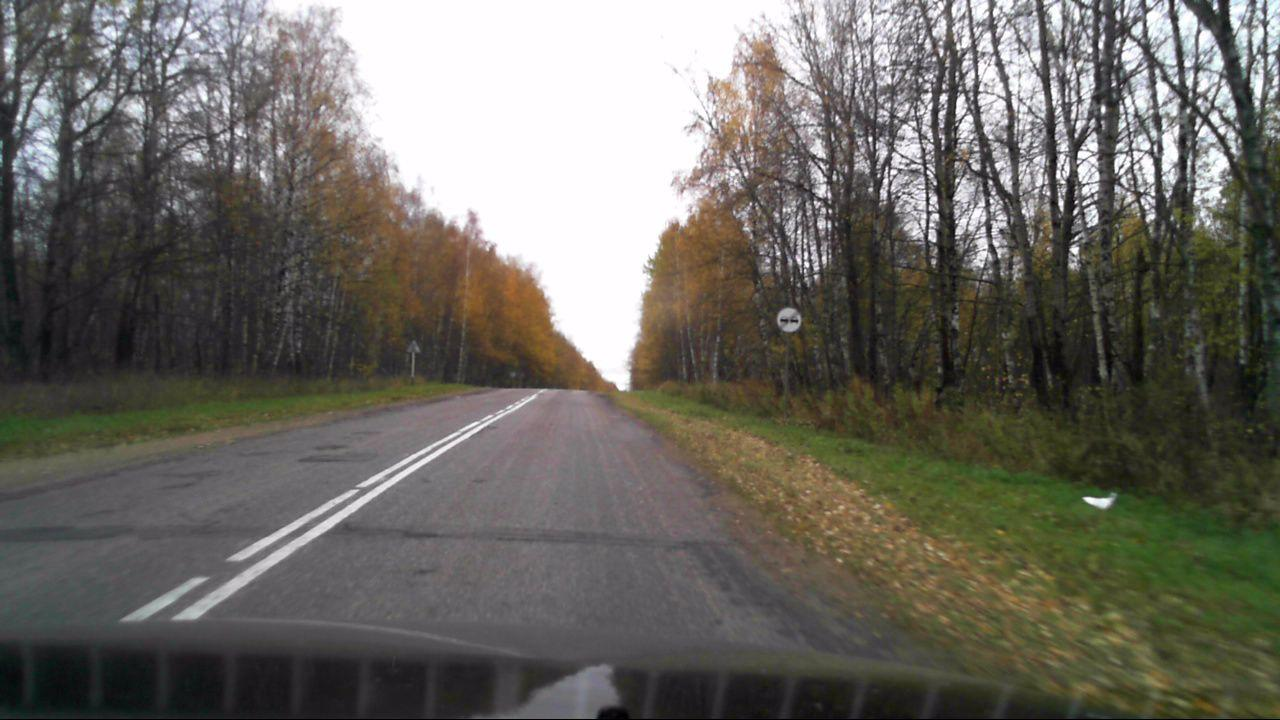3_21: (776, 305, 803, 332)
